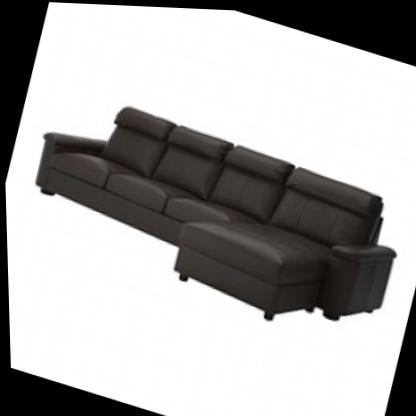Sofa: (8, 65, 416, 349)
